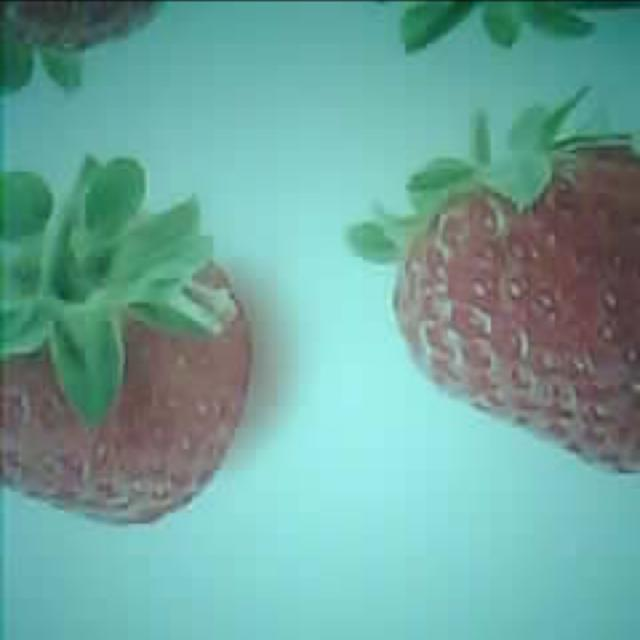ripe: (394, 155, 640, 473), (0, 249, 245, 523)
